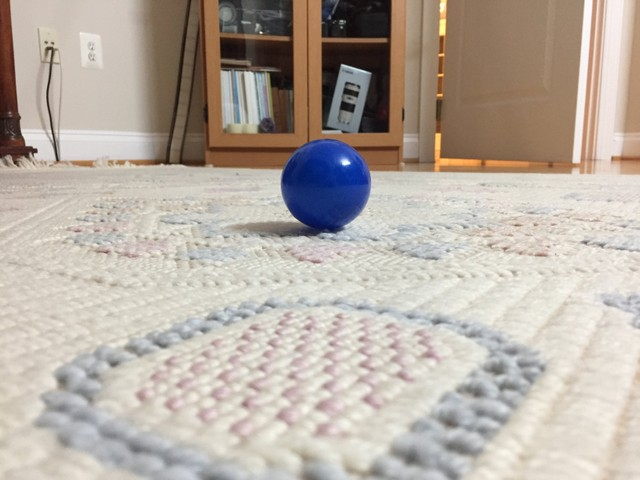Ball: (281, 141, 371, 229)
